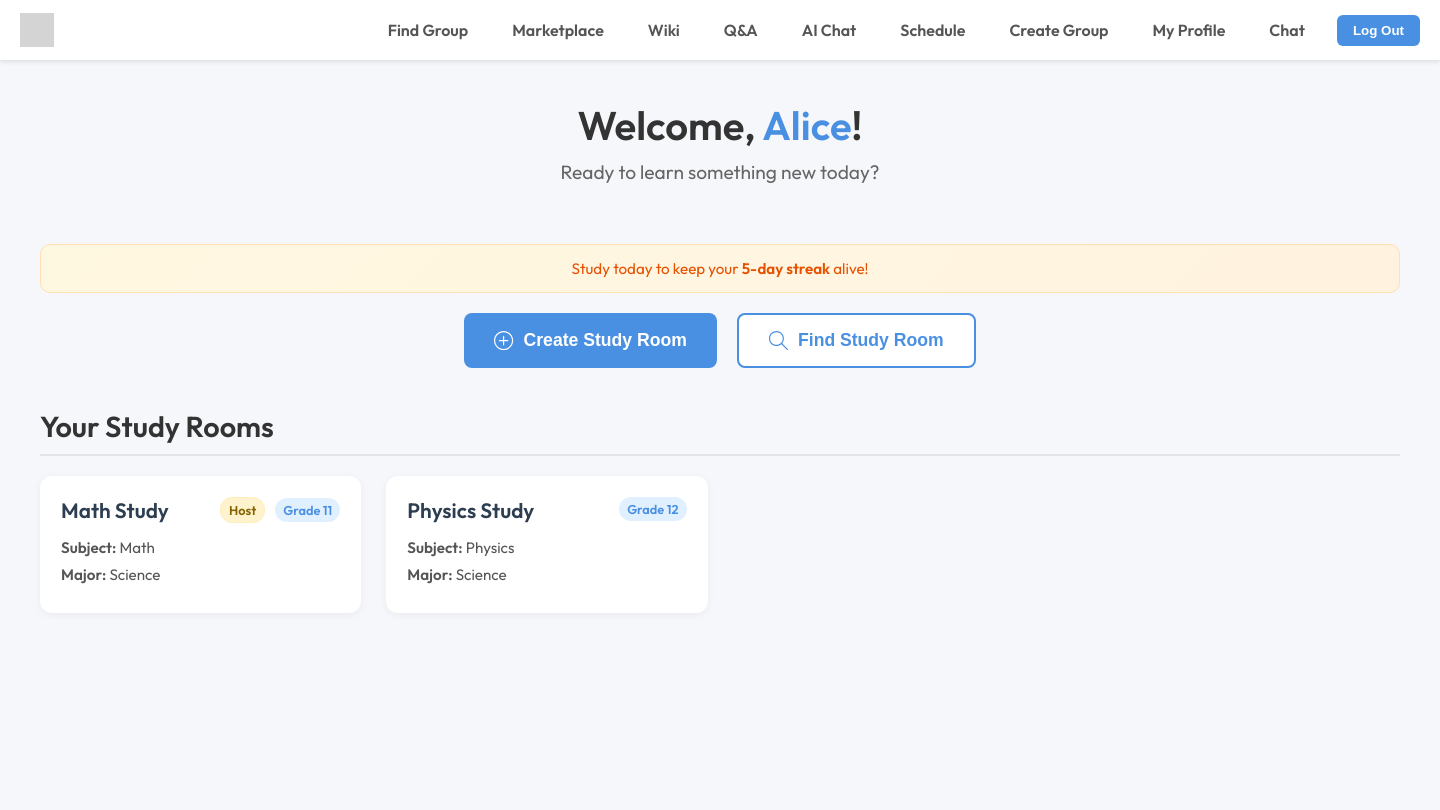
Test: Lobby page › right-click on own room opens context menu
The image size is (1440, 810).
Check: the heading "Math Study" is shown, box [61, 497, 169, 523]
Right-click the text "Math Study" at [201, 544], box [40, 476, 361, 613]
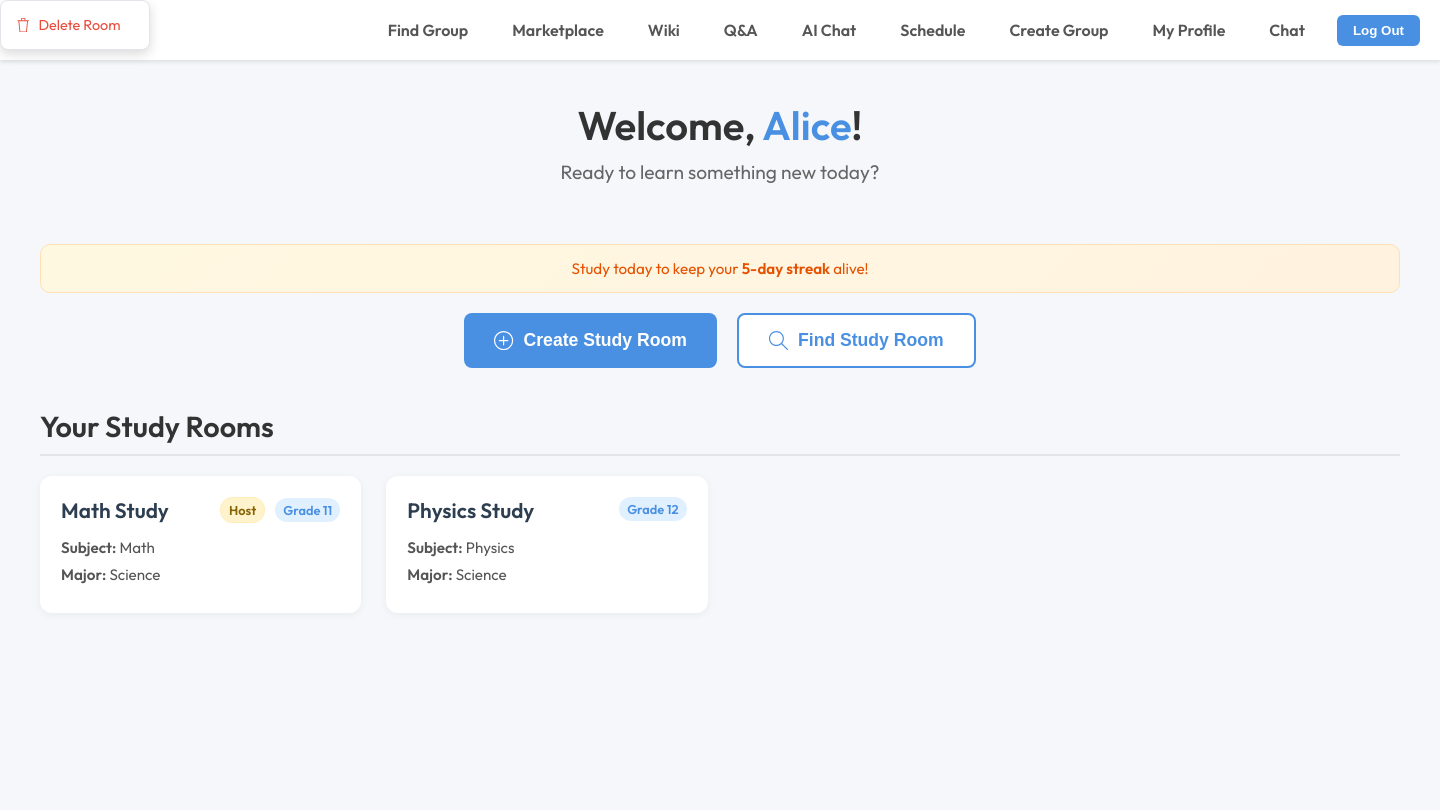
Check: the text "Delete Room" is shown, box [16, 16, 120, 34]
